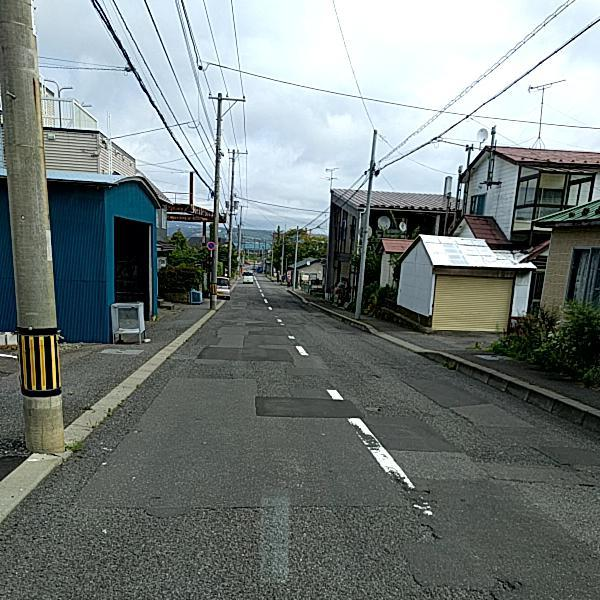D40: (413, 520, 443, 543), (357, 400, 383, 414)
D44: (329, 412, 434, 516)
